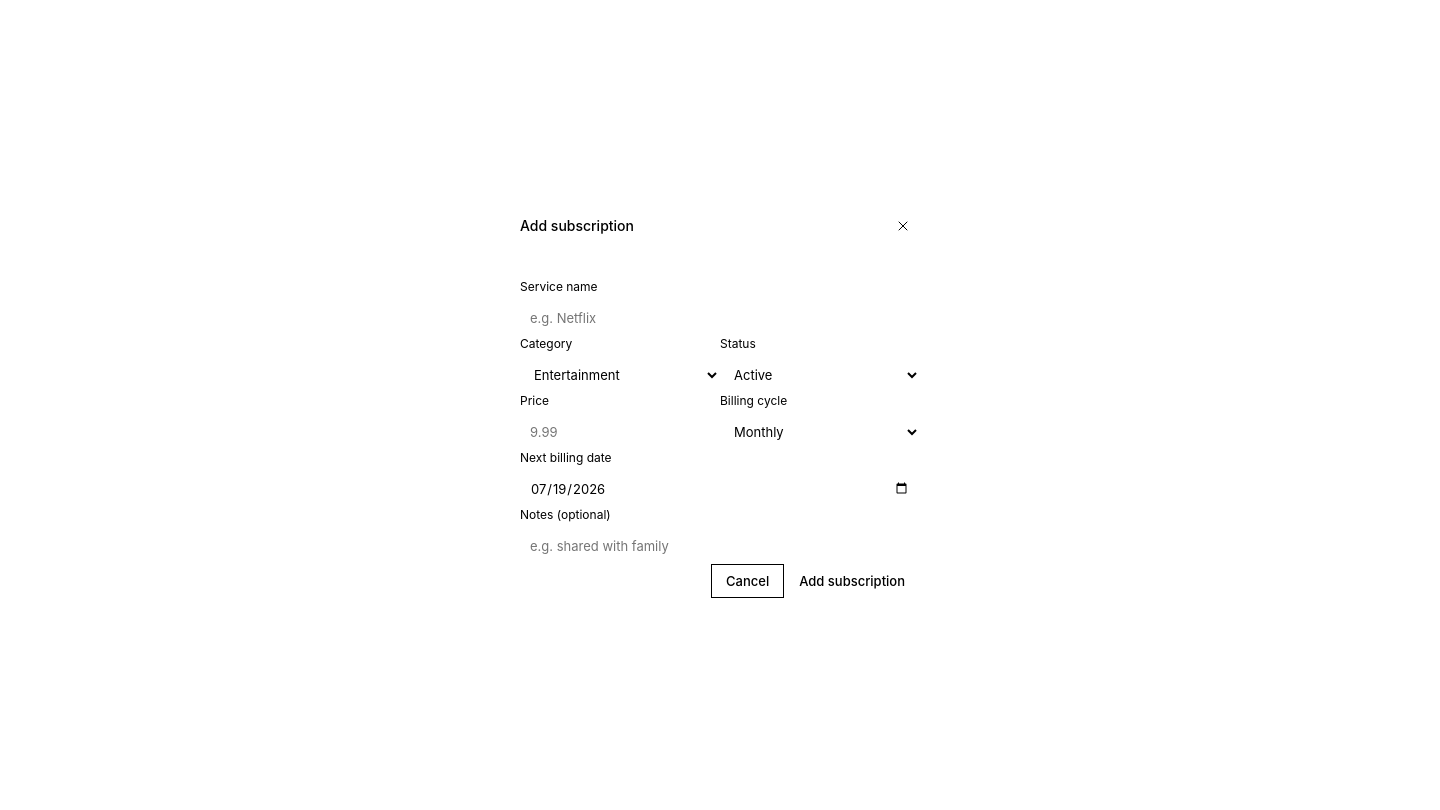
Test: SubscriptionFormModal › still requires a valid price when status is not Trial
Type "Active Service" into the dropdown with placeholder "e.g. Netflix" at coordinates (720, 318), box [520,300,920,336]
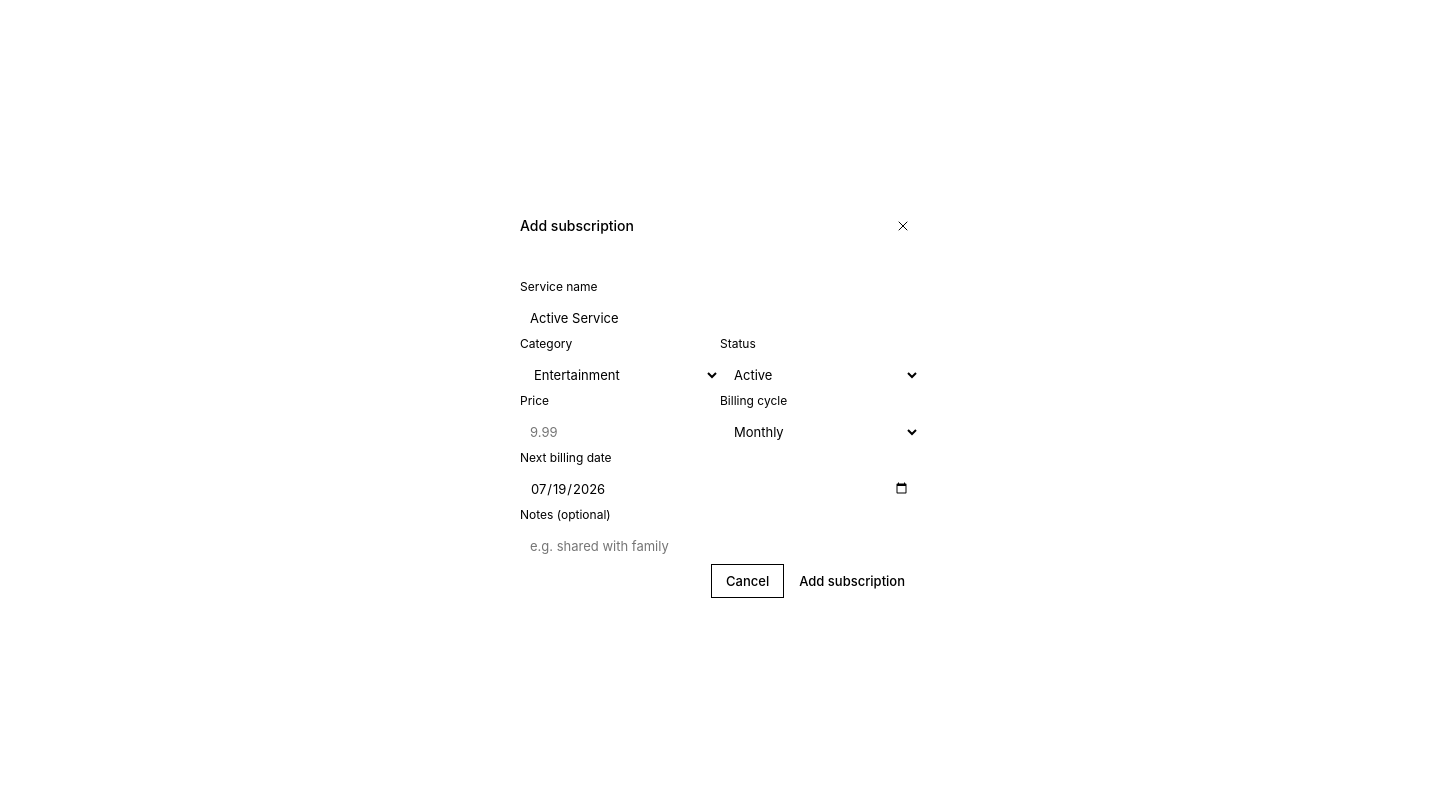
Click the button "Add subscription" at coordinates (852, 580), box [784,564,920,598]
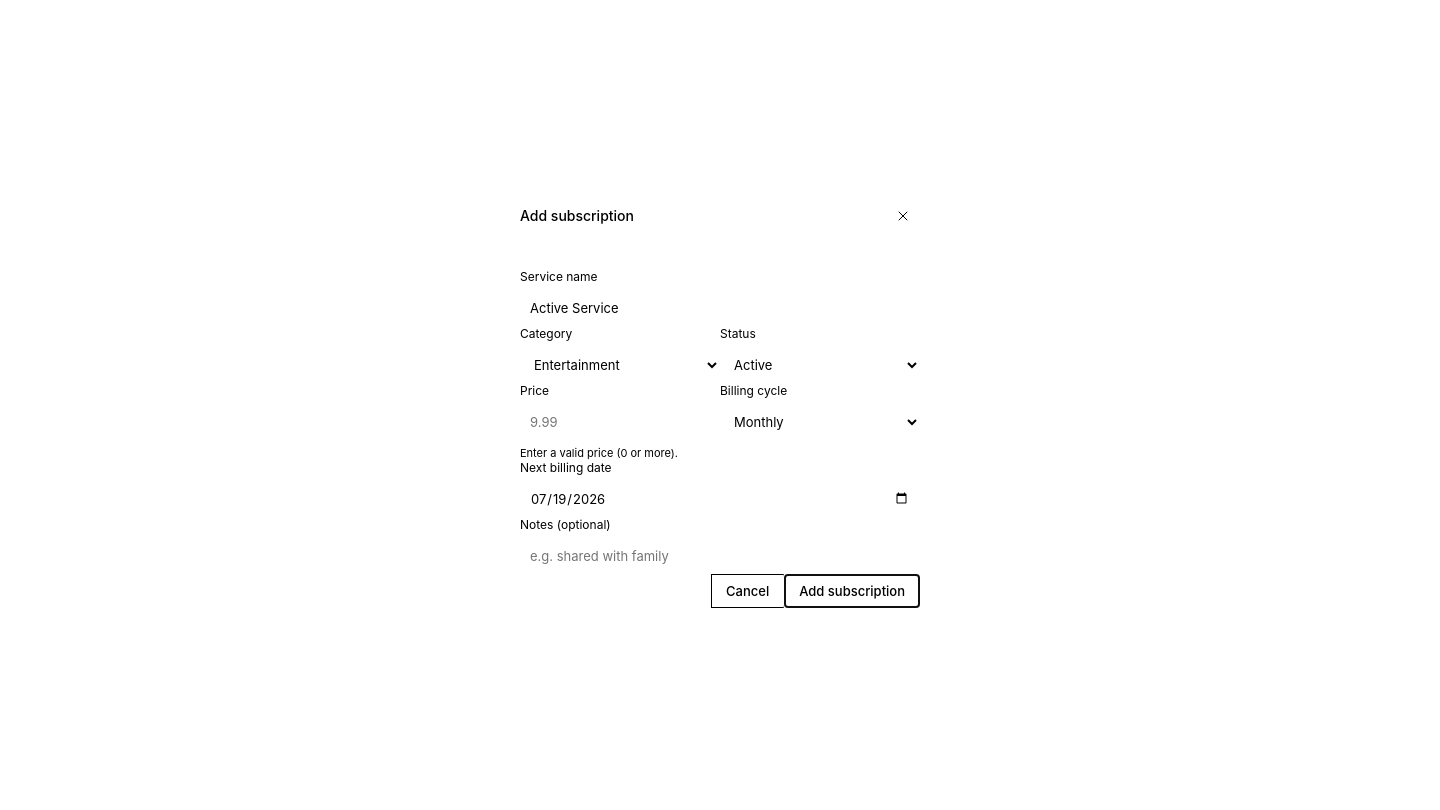
Check: the text "Enter a valid price (0 or more)." is shown, box [520,446,678,460]
